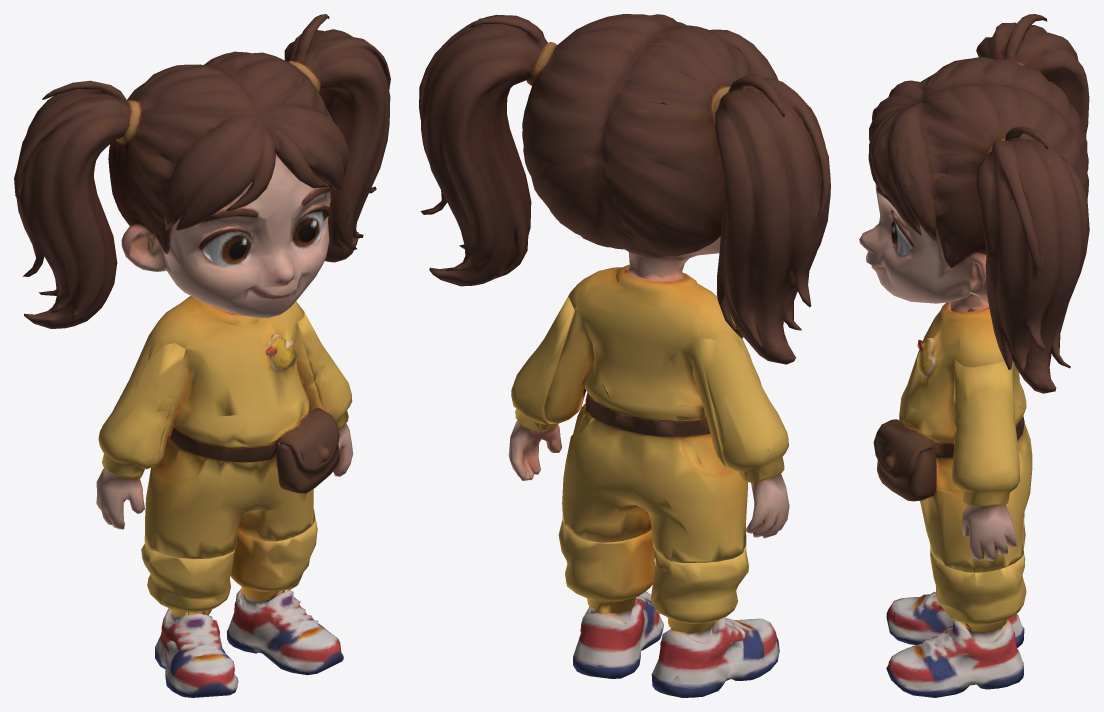
The model's file is woman_1_parts_rig_backup.glb.
3 renders of one model, left to right at view 1: azimuth 30°, elevation 25°; view 2: azimuth 150°, elevation 25°; view 3: azimuth 270°, elevation 25°, orthographic. The views are drawn at different scales.
Parts seen in each view (by area): view 1: torso, leg_left, leg_right, arm_right, arm_left; view 2: torso, leg_right, leg_left, arm_right, arm_left; view 3: torso, leg_left, arm_left, leg_right.
Boxes of the visible parts, x1,y1,x2,y2 form: torso: [14, 14, 390, 559]; leg_left: [227, 516, 343, 675]; leg_right: [141, 544, 238, 697]; arm_right: [96, 331, 185, 529]; arm_left: [297, 312, 353, 476]; torso: [419, 14, 830, 562]; leg_right: [650, 545, 779, 697]; leg_left: [558, 519, 663, 678]; arm_right: [698, 323, 789, 538]; arm_left: [508, 297, 574, 480]; torso: [859, 14, 1089, 572]; leg_left: [886, 549, 1026, 697]; arm_left: [952, 360, 1019, 561]; leg_right: [886, 516, 1025, 647].
Bounding box in the file's own units: 0.6637 × 1 × 0.3566.
Materials: 1 (1 with a texture image).
